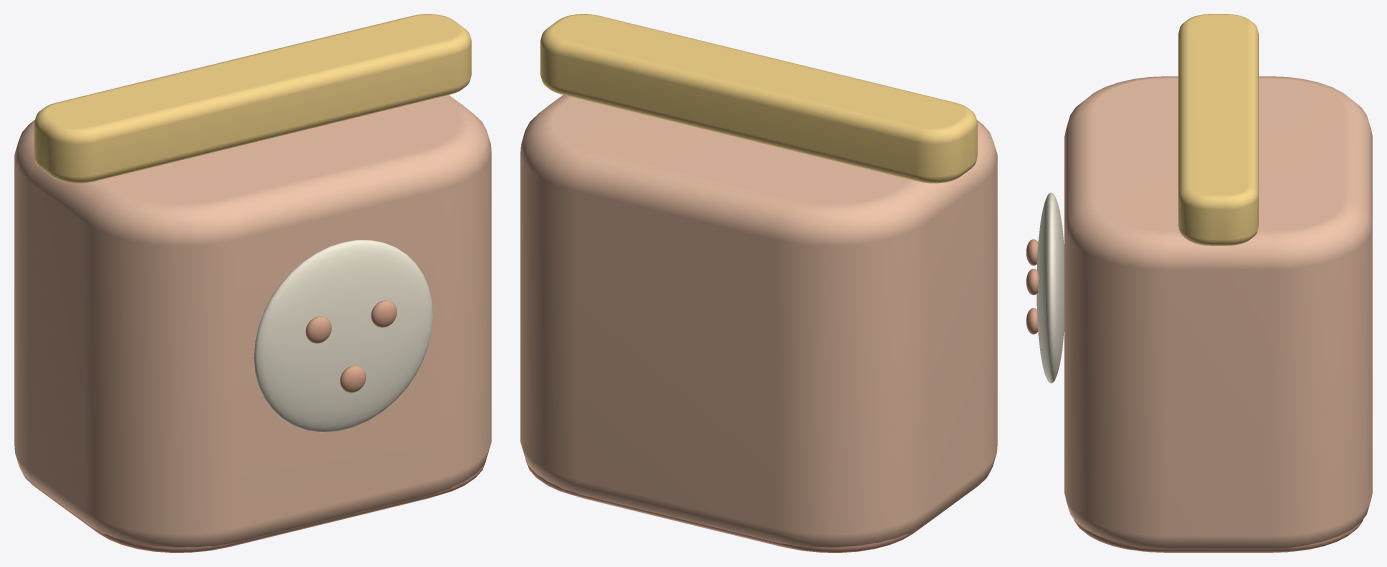
File: Takeaway_Snack_Pack.glb
3 views of the same model, side by side, from view 1: azimuth 30°, elevation 25°; view 2: azimuth 150°, elevation 25°; view 3: azimuth 270°, elevation 25° (orthographic). The views are drawn at different scales.
Visible parts, largest first — view 1: Snack_pouch, Snack_top_seal, Snack_cookie_badge, Snack_bottom_seam, Snack_cookie_dot, Snack_cookie_dot.001; view 2: Snack_pouch, Snack_top_seal, Snack_bottom_seam; view 3: Snack_pouch, Snack_top_seal, Snack_cookie_badge, Snack_bottom_seam.
Boxes of the visible parts, x1,y1,x2,y2 form: Snack_pouch: [14, 95, 491, 550]; Snack_top_seal: [34, 14, 471, 183]; Snack_cookie_badge: [254, 240, 432, 432]; Snack_bottom_seam: [21, 458, 486, 552]; Snack_cookie_dot: [305, 316, 331, 343]; Snack_cookie_dot.001: [371, 300, 396, 327]; Snack_pouch: [520, 95, 997, 550]; Snack_top_seal: [540, 14, 977, 183]; Snack_bottom_seam: [525, 458, 990, 552]; Snack_pouch: [1064, 76, 1372, 552]; Snack_top_seal: [1178, 14, 1258, 245]; Snack_cookie_badge: [1036, 192, 1064, 383]; Snack_bottom_seam: [1074, 519, 1363, 552].
Size of the model in its own units: 0.61 by 0.555 by 0.472.
